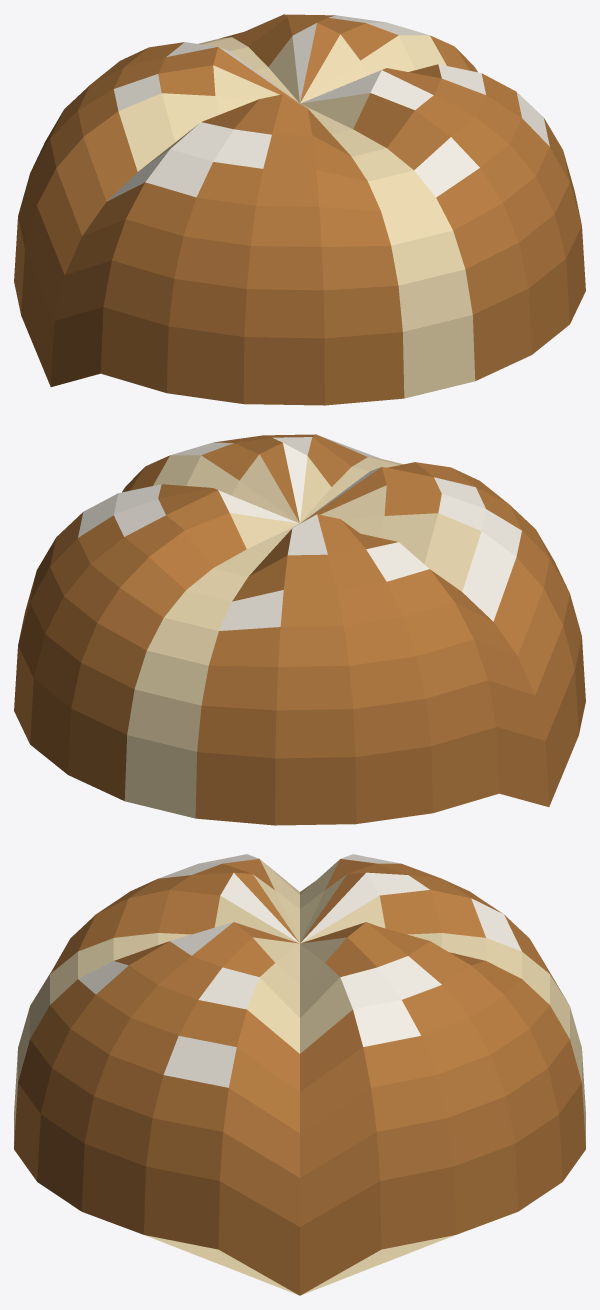
Rendered from mdvl_food_loaf_01.glb.
3 renders of one model, top to bottom at view 1: azimuth 30°, elevation 25°; view 2: azimuth 150°, elevation 25°; view 3: azimuth 270°, elevation 25°, orthographic. The views are drawn at different scales.
Visible parts, largest first — view 1: mdvl_food_loaf_01; view 2: mdvl_food_loaf_01; view 3: mdvl_food_loaf_01.
Boxes of the visible parts, bbox=[...] form: mdvl_food_loaf_01: bbox=[14, 14, 585, 405]; mdvl_food_loaf_01: bbox=[14, 434, 585, 825]; mdvl_food_loaf_01: bbox=[14, 854, 585, 1295].
Bounding box in the file's own units: 0.22 × 0.1131 × 0.2138.
Materials: 1 (1 with a texture image).
